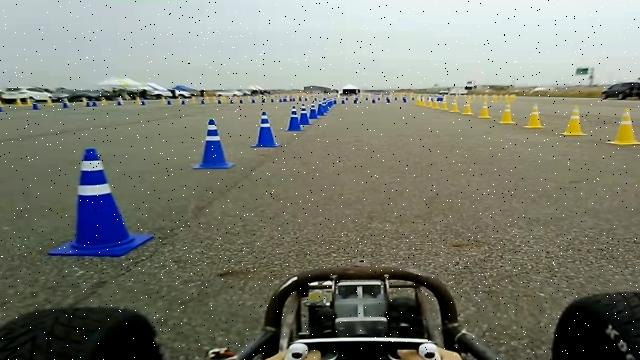blue cone: (47, 147, 154, 257), (192, 118, 236, 169), (250, 110, 281, 148), (284, 106, 304, 132), (32, 102, 39, 110), (62, 101, 69, 108)
yellow cone: (605, 108, 640, 145), (560, 104, 587, 136), (523, 103, 545, 128), (497, 103, 516, 124), (477, 102, 492, 118), (461, 103, 473, 115), (449, 100, 459, 112), (415, 96, 425, 106), (440, 102, 449, 110), (431, 100, 439, 109), (16, 98, 22, 106)
